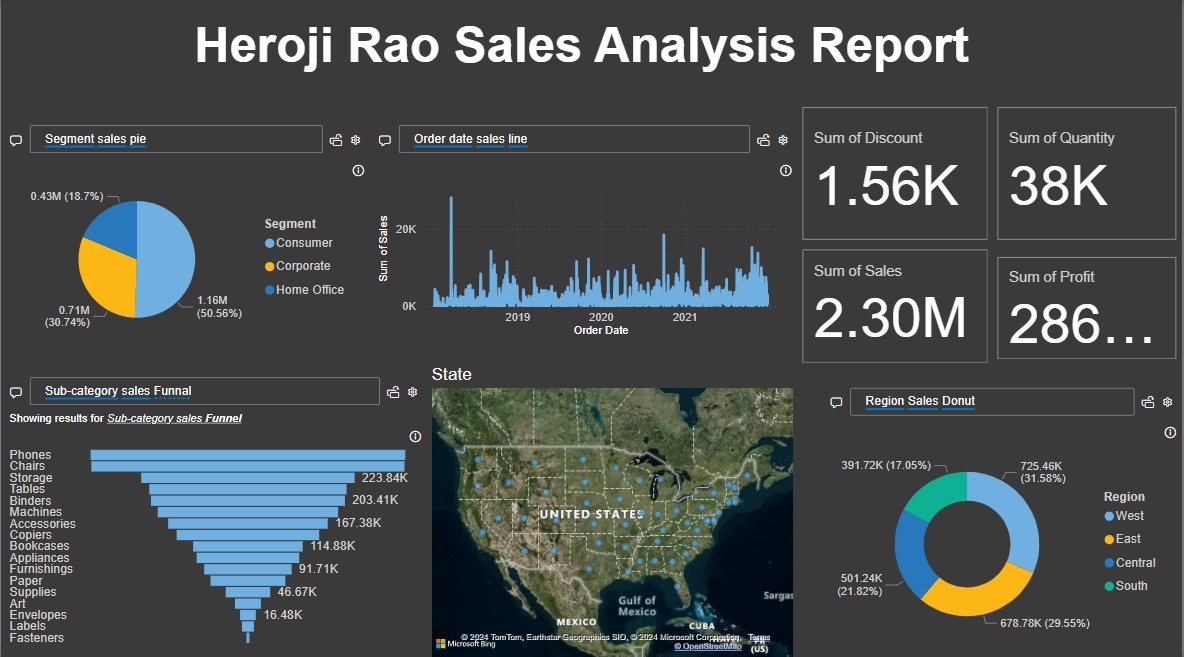

What the dashboard file says about the page in this screenshot:
{"tool":"powerbi","page":{"name":"Page 1","canvas":[1280,720],"ordinal":0},"visuals":[{"type":"qnaVisual","box":[889.5,399.2,390.9,321.4],"z":0},{"type":"qnaVisual","box":[0,387.6,462.2,333],"z":1000},{"type":"map","fields":{"Category":["Orders.State"]},"box":[461.9,398.5,401.8,322.1],"z":2000},{"type":"qnaVisual","box":[0,113.9,400.1,273.3],"z":3000},{"type":"qnaVisual","box":[400.1,113.9,463.6,273.3],"z":4000},{"type":"cardVisual","fields":{"Data":["Orders.Sales"]},"box":[863.7,268.4,211.5,133.4],"z":5000},{"type":"cardVisual","fields":{"Data":["Orders.Profit"]},"box":[1075.1,276.5,204.9,122],"z":6000},{"type":"cardVisual","fields":{"Data":["Orders.Discount"]},"box":[863.7,113.9,211.5,154.5],"z":7000},{"type":"cardVisual","fields":{"Data":["Orders.Quantity"]},"box":[1075.1,113.9,204.9,154.5],"z":8000},{"type":"textbox","box":[183.9,16.6,891.2,82.8],"z":9000}]}

Visuals, with their boxes in screenshot pixels (x1, y1, x2, y2), scaled from the page's 1280x720 canvas onto the 1184x657 screenshot:
qnaVisual: pyautogui.locateOnScreen(823, 364, 1183, 656)
qnaVisual: pyautogui.locateOnScreen(0, 354, 428, 656)
map - Orders.State: pyautogui.locateOnScreen(427, 364, 799, 656)
qnaVisual: pyautogui.locateOnScreen(0, 104, 370, 353)
qnaVisual: pyautogui.locateOnScreen(370, 104, 799, 353)
cardVisual - Orders.Sales: pyautogui.locateOnScreen(799, 245, 995, 367)
cardVisual - Orders.Profit: pyautogui.locateOnScreen(994, 252, 1183, 364)
cardVisual - Orders.Discount: pyautogui.locateOnScreen(799, 104, 995, 245)
cardVisual - Orders.Quantity: pyautogui.locateOnScreen(994, 104, 1183, 245)
textbox: pyautogui.locateOnScreen(170, 15, 994, 91)
